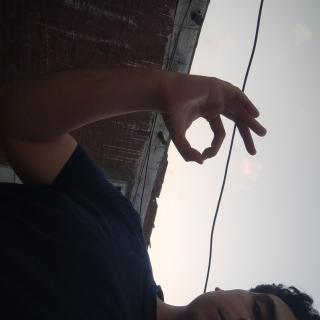Space: (51, 66, 126, 225)
